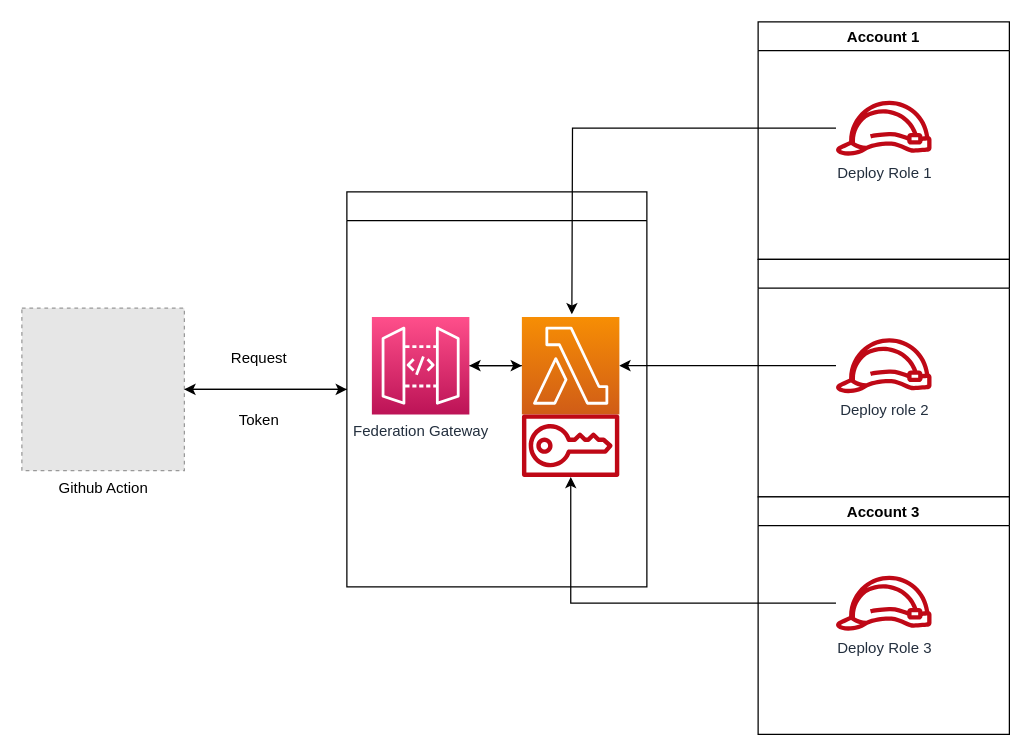
This 1031x756 diagram has some shape labels left out. Grey dashed boxes stand in for pictures. The shapes that lost their labels are listed below. From the top down, each one's box as (x1, y1, x2, y2) in pixels, then its label:
(346, 191, 647, 587): Federation Account
(757, 258, 1009, 497): Account 2
(521, 414, 619, 476): Lambda Requests STS Token
